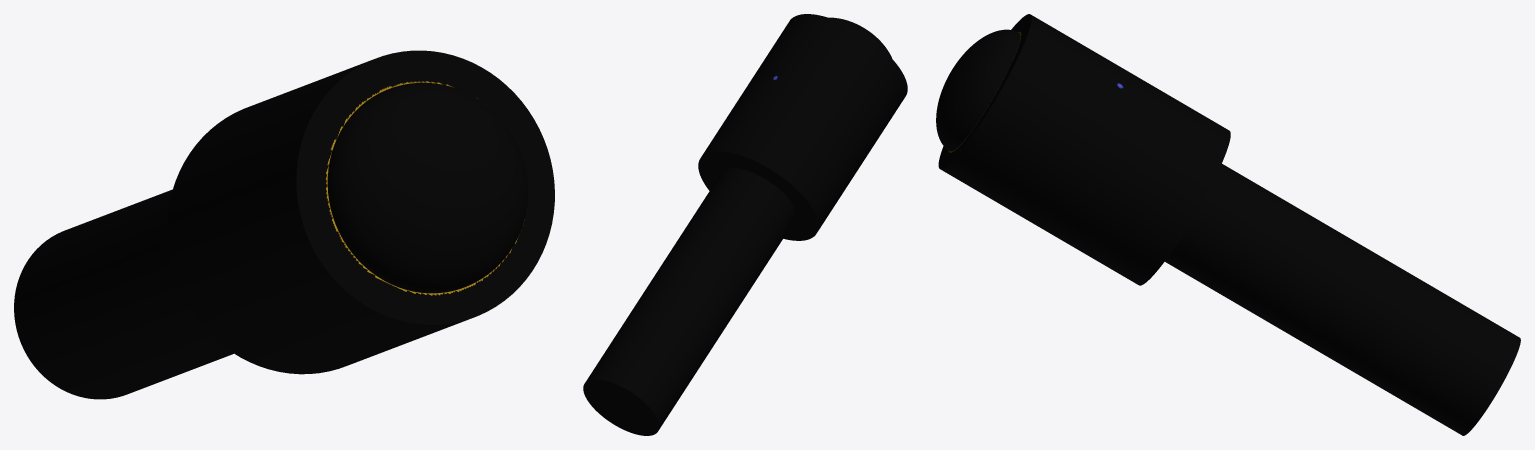
Rendered from taskulamppu.fbx.
The picture shows the model from 3 angles, left to right: view 1: azimuth 30°, elevation 25°; view 2: azimuth 150°, elevation 25°; view 3: azimuth 270°, elevation 25°; orthographic projection. The views are drawn at different scales.
Visible parts, largest first — view 1: node_id8, node_id6, node_id9; view 2: node_id8, node_id9, node_id6; view 3: node_id8, node_id9, node_id6.
Boxes of the visible parts, x1=… form: node_id8: x1=167, y1=50, x2=554, y2=374; node_id6: x1=327, y1=82, x2=527, y2=293; node_id9: x1=14, y1=189, x2=233, y2=399; node_id8: x1=698, y1=14, x2=907, y2=240; node_id9: x1=583, y1=168, x2=796, y2=435; node_id6: x1=829, y1=17, x2=891, y2=57; node_id8: x1=938, y1=14, x2=1230, y2=285; node_id9: x1=1165, y1=164, x2=1520, y2=435; node_id6: x1=936, y1=29, x2=1020, y2=151.
Size of the model in its own units: 0.1598 by 0.3486 by 0.4744.
Materials: 3 (3 with a texture image).
